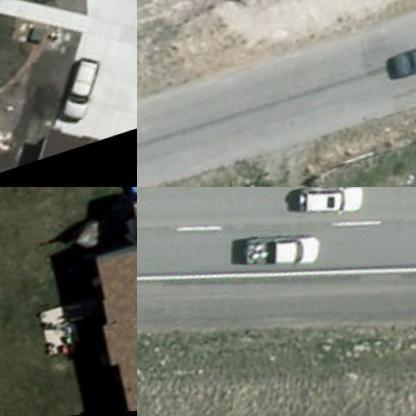car: (41, 52, 111, 136), (293, 187, 368, 235), (383, 40, 415, 92)
pickup: (235, 217, 326, 294)
